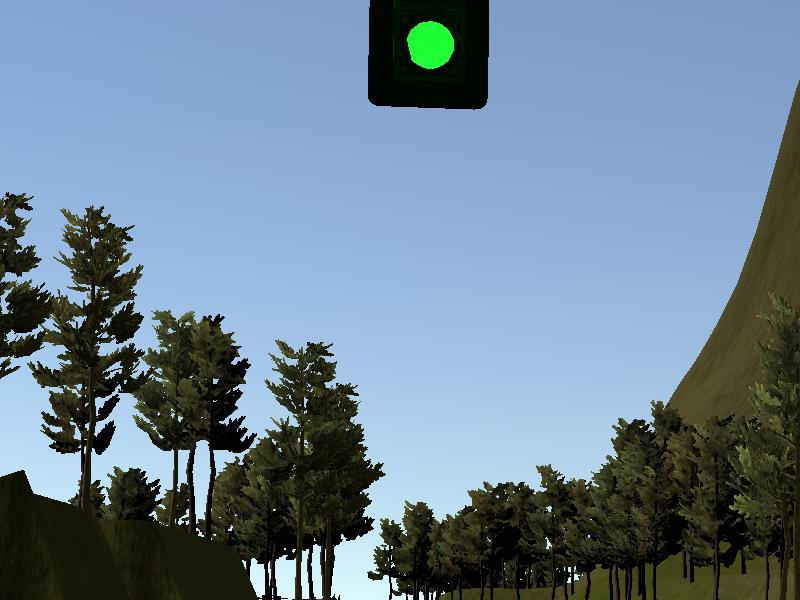not_red: (369, 1, 488, 109)
